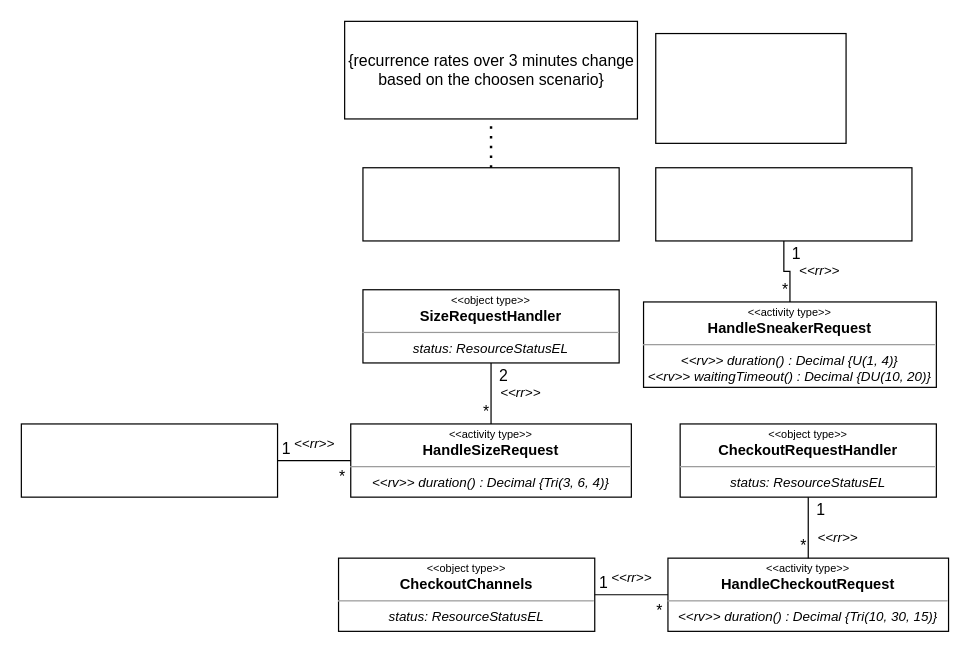
The diagram is 970 pixels wide and 653 high, and some of its shapes have lost their labels. The shapes that lost their labels are listed below. From the top down, each one's centre as x and y in pixels, then its label:
[750,87]: <<enumeration>> OES:: ResourceStatusEL AVAILABLE BUSY OUT_OF_ORDER
[490,204]: <<exogenous event type>> SneakerRequest <<rv>> recurrence() : Decimal {Exp}
[783,204]: <<object type>> SneakerRequestHandler status: ResourceStatusEL
[149,460]: <<object type>> SizeChannels status: ResourceStatusEL
